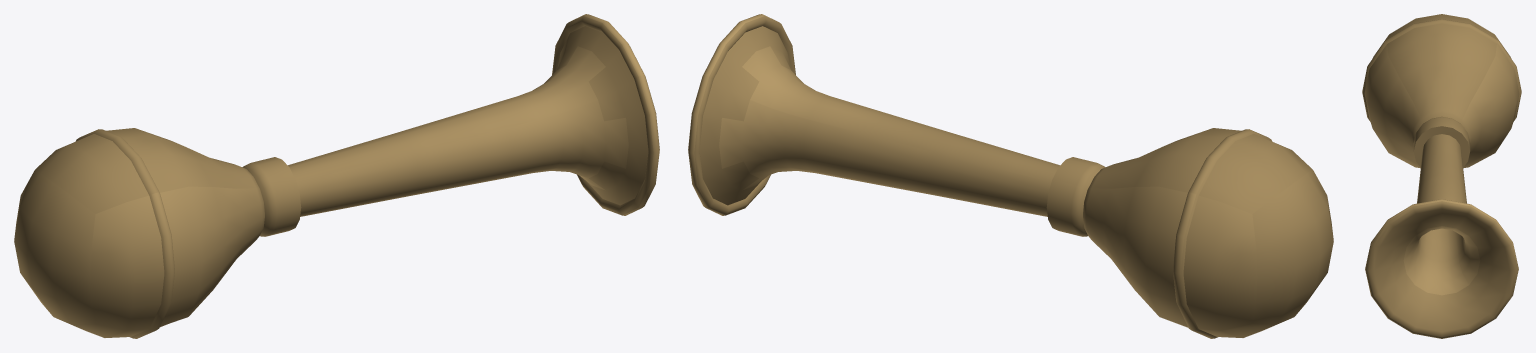
Rendered from horn_bulb.glb.
3 views of the same model, side by side, from view 1: azimuth 30°, elevation 25°; view 2: azimuth 150°, elevation 25°; view 3: azimuth 270°, elevation 25° (orthographic). The views are drawn at different scales.
Visible parts, largest first — view 1: horn_bulb; view 2: horn_bulb; view 3: horn_bulb.
Part boxes in pixels (box(x1,y1,x2,y2)): horn_bulb: box(14, 14, 659, 338); horn_bulb: box(688, 14, 1333, 338); horn_bulb: box(1362, 14, 1521, 338).
Bounding box in the file's own units: 0.3004 × 0.0956 × 0.0956.
1 material, 1 textured.
